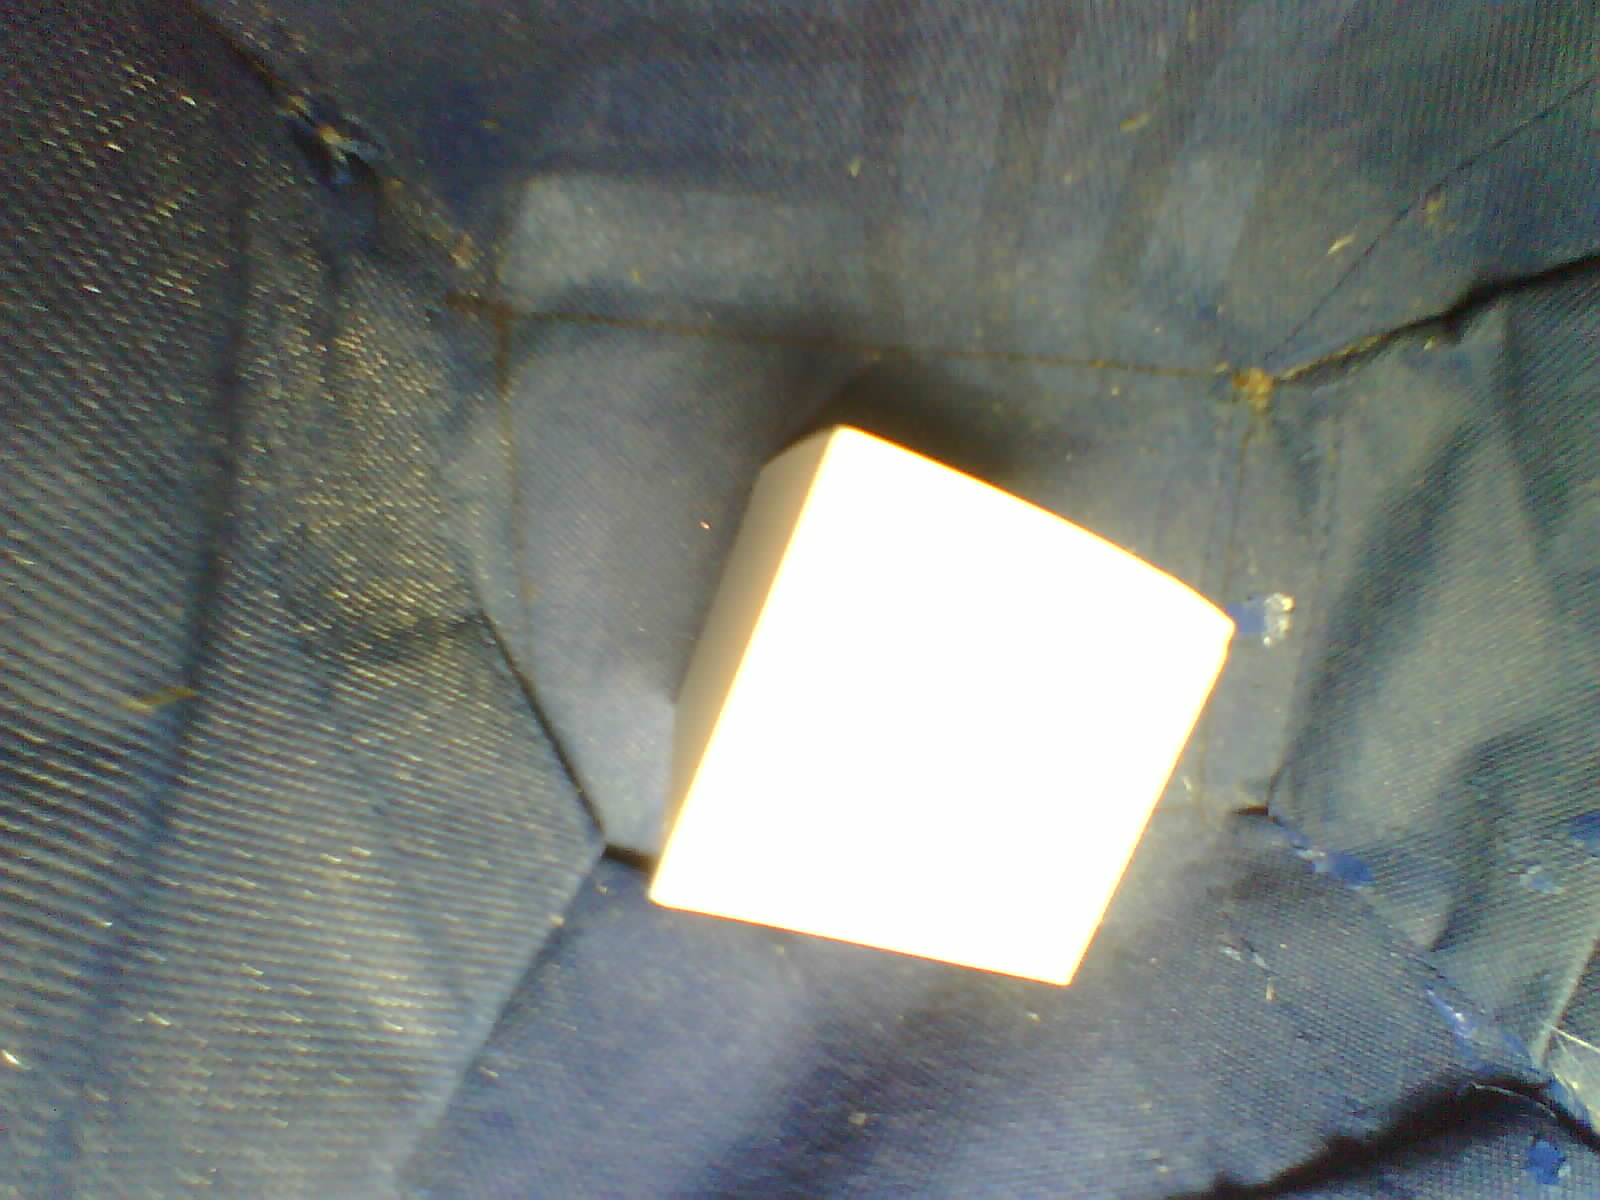cube-hard: (635, 387, 1251, 1017)
